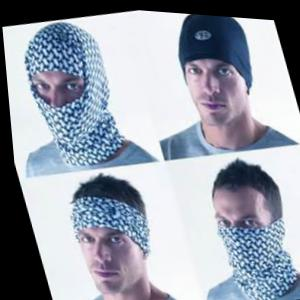NONE: (70, 221, 145, 298), (182, 59, 252, 132)
OK: (204, 195, 286, 278)
WRONG: (25, 62, 112, 148)
